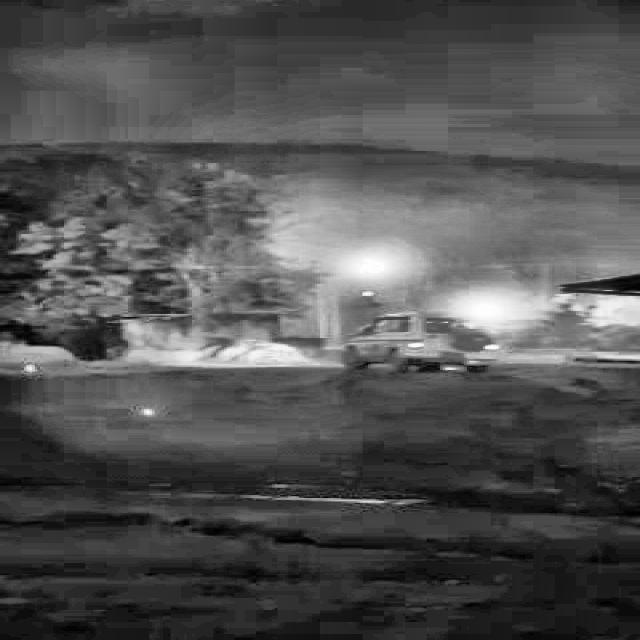light_vehicle: (328, 314, 504, 374)
